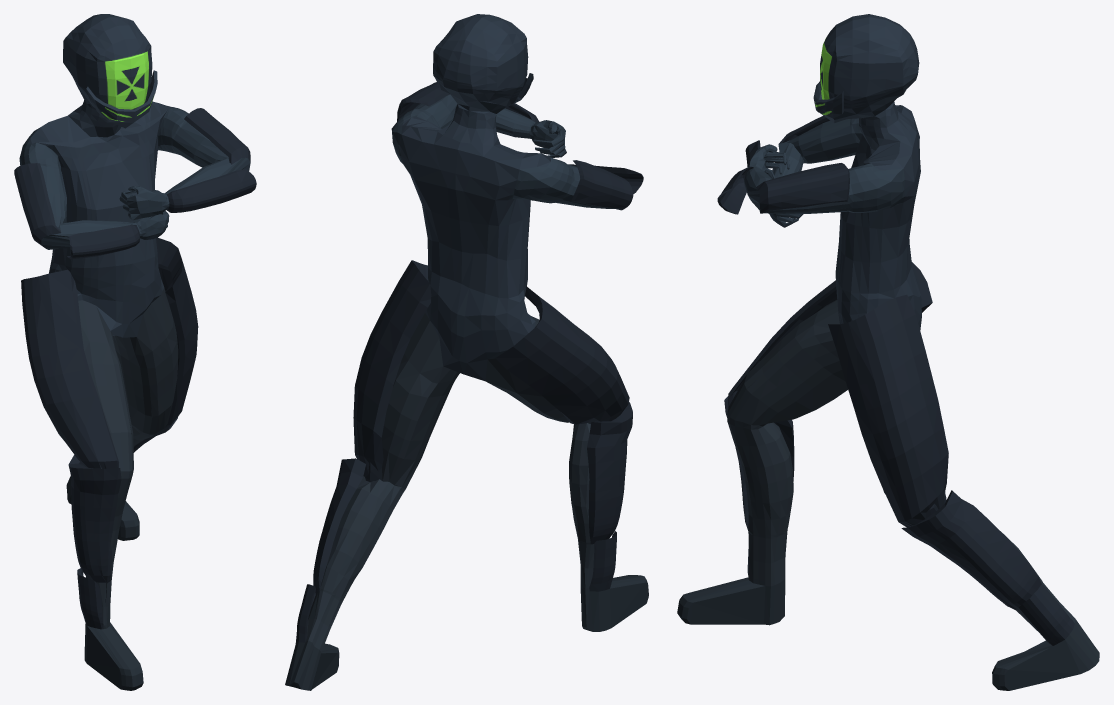
Rendered from Bastion_WR_000003.obj.
3 renders of one model, left to right at view 1: azimuth 30°, elevation 25°; view 2: azimuth 150°, elevation 25°; view 3: azimuth 270°, elevation 25°, orthographic. The views are drawn at different scales.
Visible parts, largest first — view 1: Cube.002; view 2: Cube.002; view 3: Cube.002.
Part boxes in pixels (x1,y1,x2,y2): Cube.002: (14, 14, 256, 690); Cube.002: (285, 14, 648, 690); Cube.002: (677, 14, 1099, 690).
Size of the model in its own units: 1.33 by 3.58 by 2.16.
